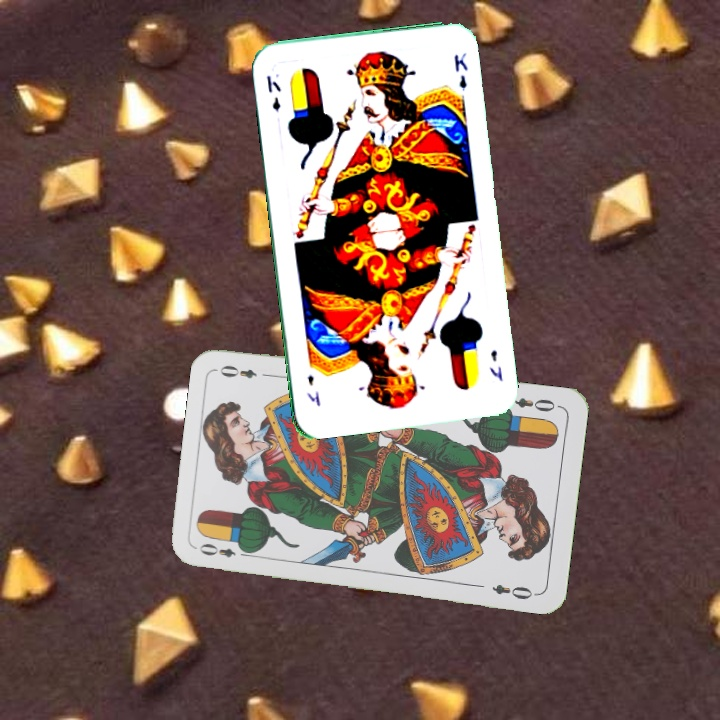EK: (263, 71, 284, 114), (485, 345, 505, 384)
EO: (195, 539, 253, 560), (510, 393, 563, 414)
